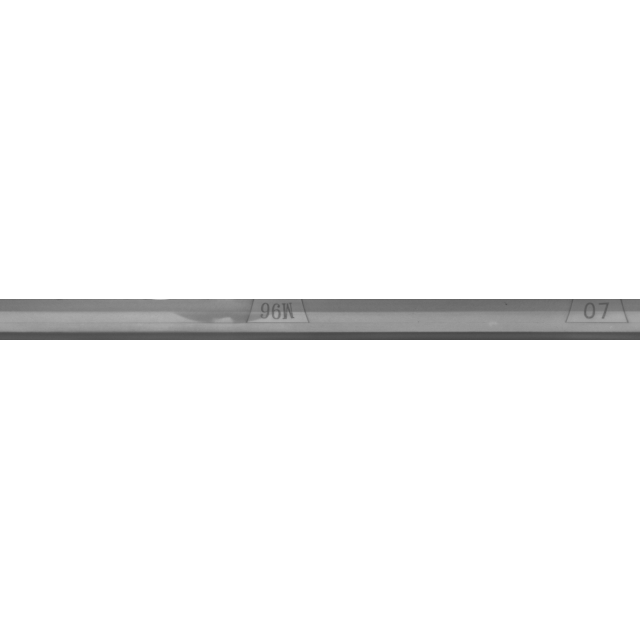mohao: (176, 270, 376, 370)
xuehao: (498, 270, 640, 370)
